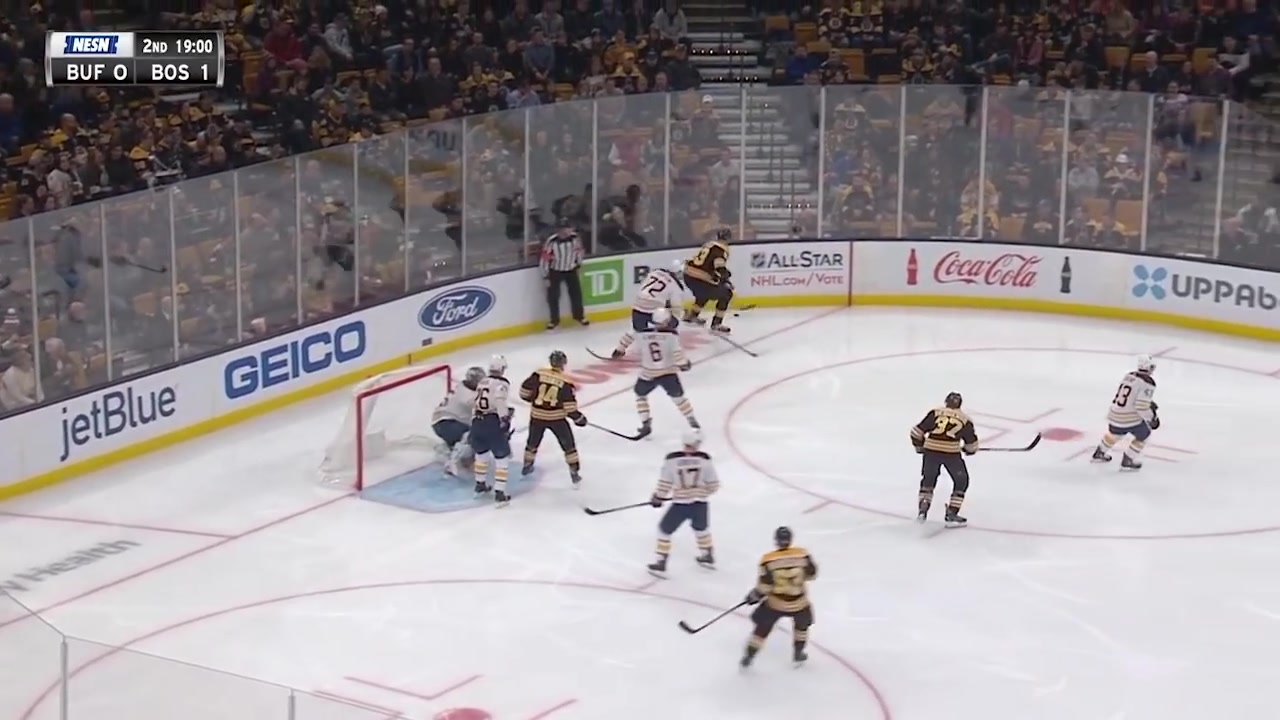geico: (212, 314, 389, 409)
